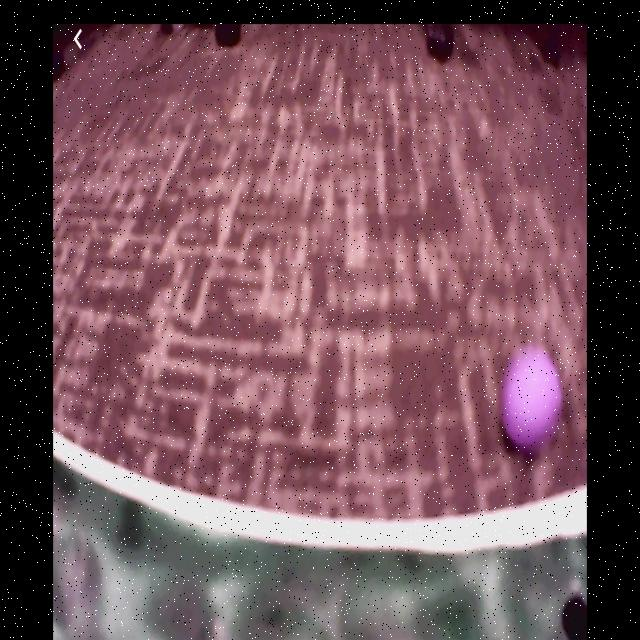ball: (502, 347, 563, 446)
